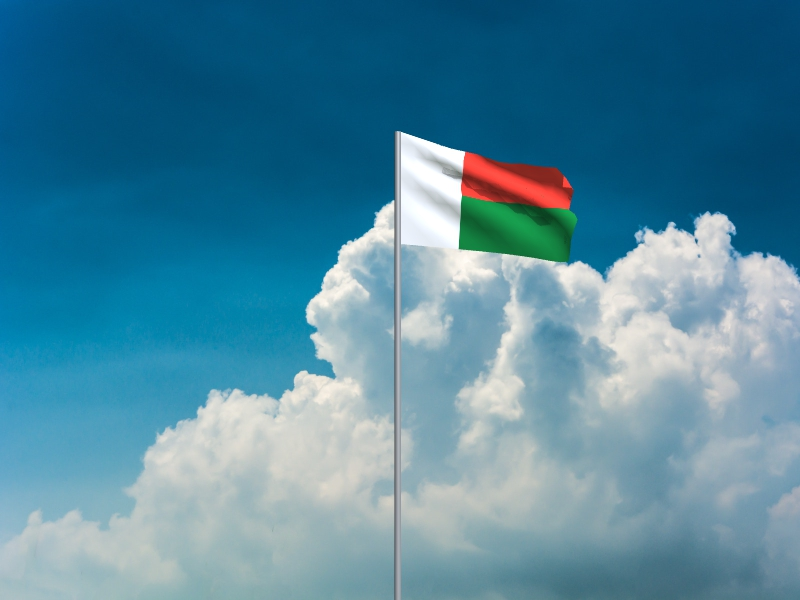mg: (401, 133, 579, 264)
